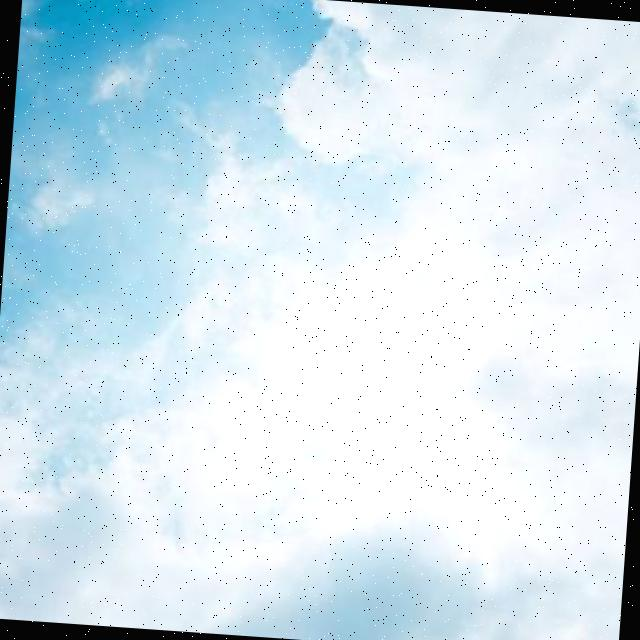As: (1, 11, 640, 640)
